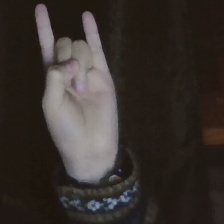U: (28, 1, 130, 159)
